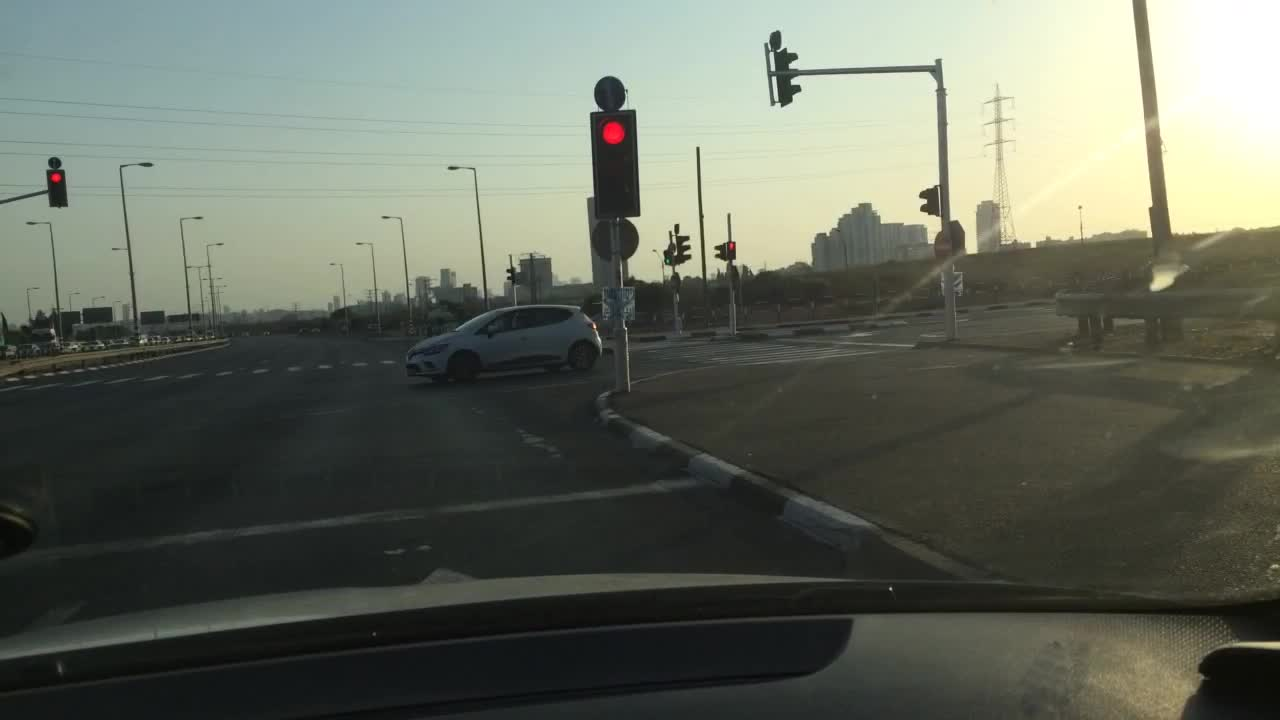car: (401, 302, 603, 387), (80, 339, 107, 350), (0, 343, 20, 357), (127, 334, 149, 346), (18, 342, 38, 355), (63, 342, 82, 352), (106, 338, 127, 347), (49, 342, 66, 353), (37, 341, 52, 353), (148, 334, 162, 344), (172, 334, 187, 342), (160, 335, 173, 344), (295, 327, 311, 334), (186, 334, 198, 342), (197, 333, 208, 340), (262, 330, 269, 338), (310, 326, 321, 331), (208, 333, 216, 339)
traffic light: (590, 110, 640, 216), (767, 51, 801, 106), (47, 168, 67, 207), (674, 224, 692, 265), (918, 185, 939, 215), (662, 245, 673, 266), (714, 241, 725, 260), (725, 242, 736, 259), (506, 266, 516, 284)
traffic sign: (592, 218, 637, 259), (599, 284, 635, 320), (593, 76, 626, 110), (938, 271, 964, 298), (79, 307, 114, 323), (60, 308, 79, 324), (142, 311, 165, 324), (768, 27, 781, 50), (934, 240, 951, 257), (46, 155, 62, 166), (165, 314, 184, 322), (184, 313, 201, 321)
